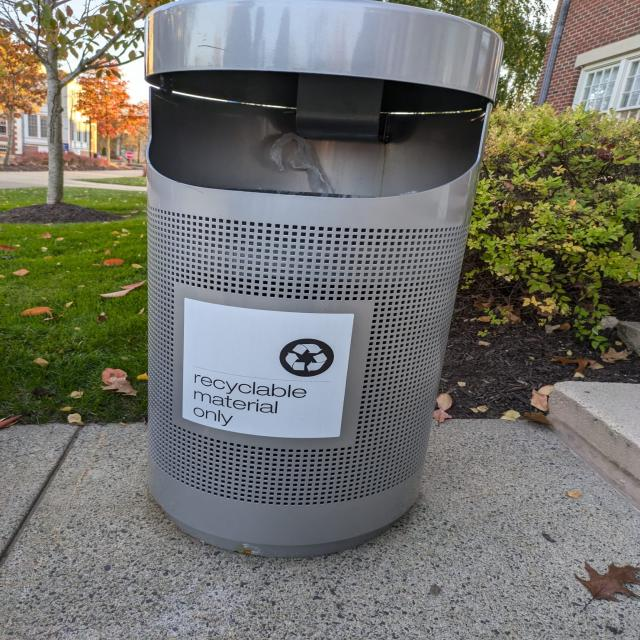Filiform Corrosion: (244, 546, 253, 555)
